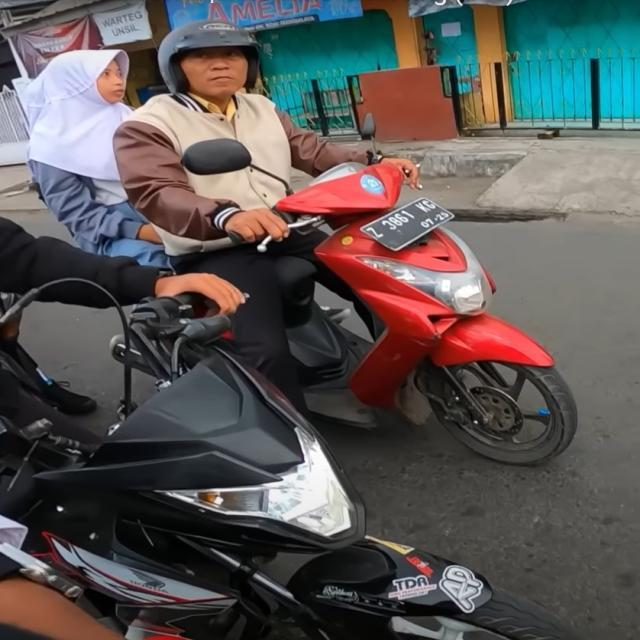Helmet: (158, 20, 258, 92)
Number Plate: (361, 198, 453, 250)
Rearview Mirror: (182, 139, 251, 174), (361, 113, 375, 139)
